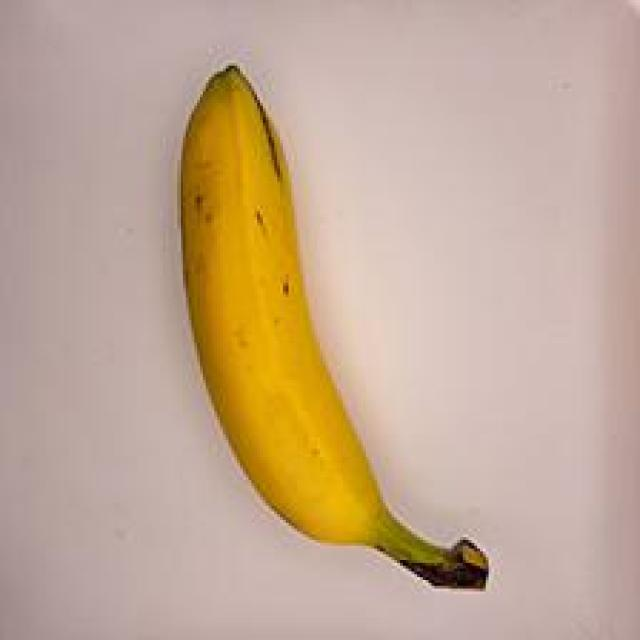Ripe: (116, 61, 528, 614)
